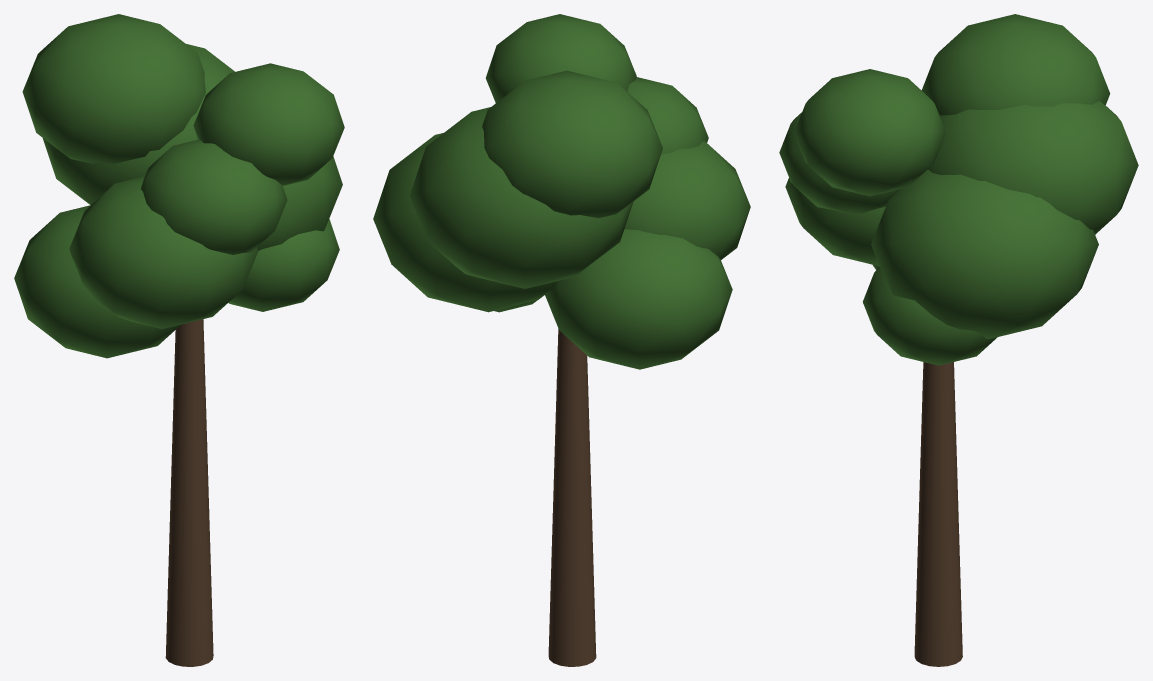
The model's file is tree.glb.
3 views of the same model, side by side, from view 1: azimuth 30°, elevation 25°; view 2: azimuth 150°, elevation 25°; view 3: azimuth 270°, elevation 25° (orthographic).
Visible parts, largest first — view 1: tree; view 2: tree; view 3: tree.
Part boxes in pixels (box(x1,y1,x2,y2)): tree: box(14, 14, 344, 666); tree: box(373, 14, 750, 666); tree: box(779, 14, 1138, 666).
Bounding box in the file's own units: 2.12 × 3.93 × 2.08.
